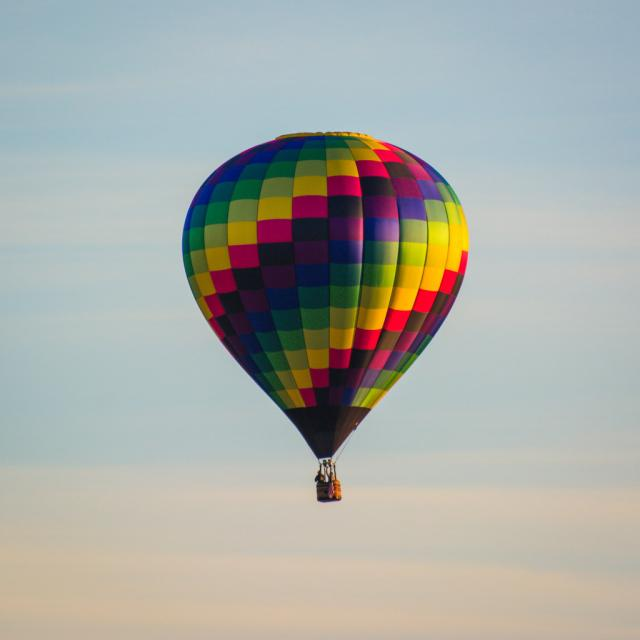balloon: (182, 131, 471, 504)
